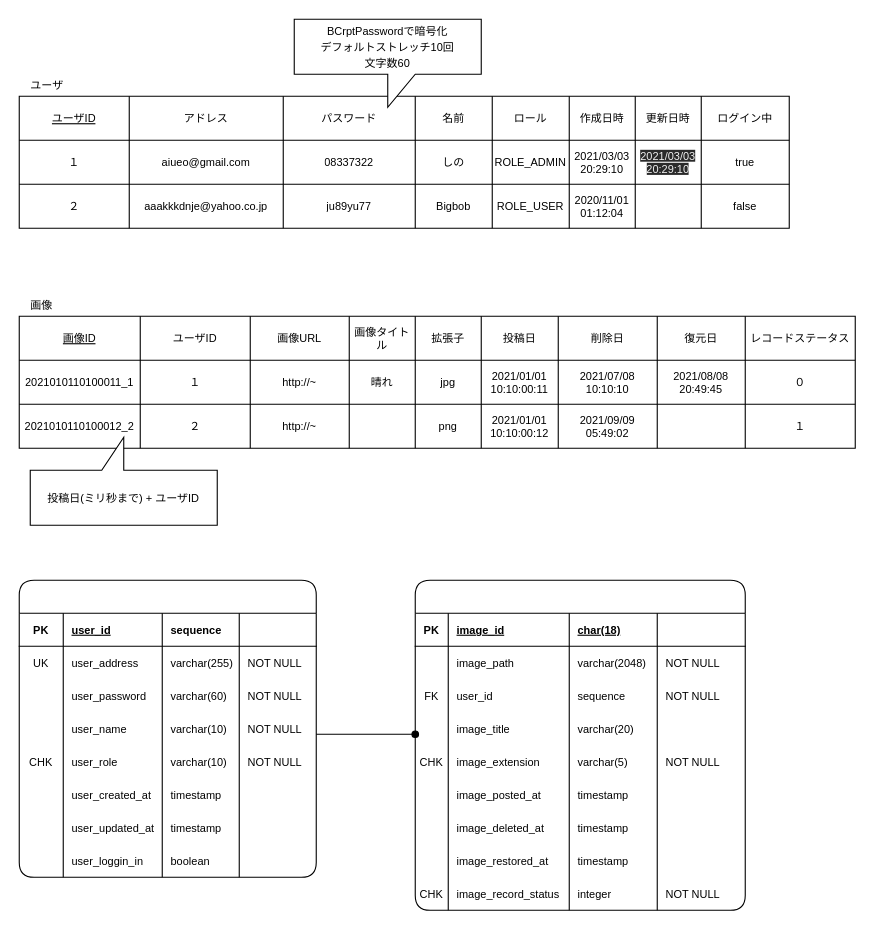
Image size: 875x930. Some labels were removed from this diagram. Each missing label, with the box of its shape:
pot_image: (414, 579, 745, 910)
pot_user: (18, 579, 316, 877)
